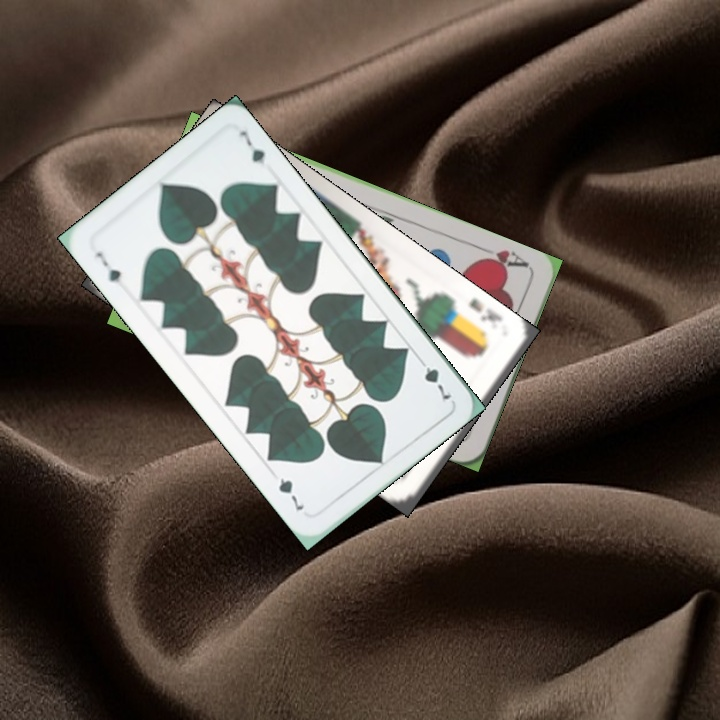EK: (465, 294, 505, 325)
G7: (413, 352, 454, 406), (89, 248, 127, 292)
HA: (474, 242, 532, 274)
